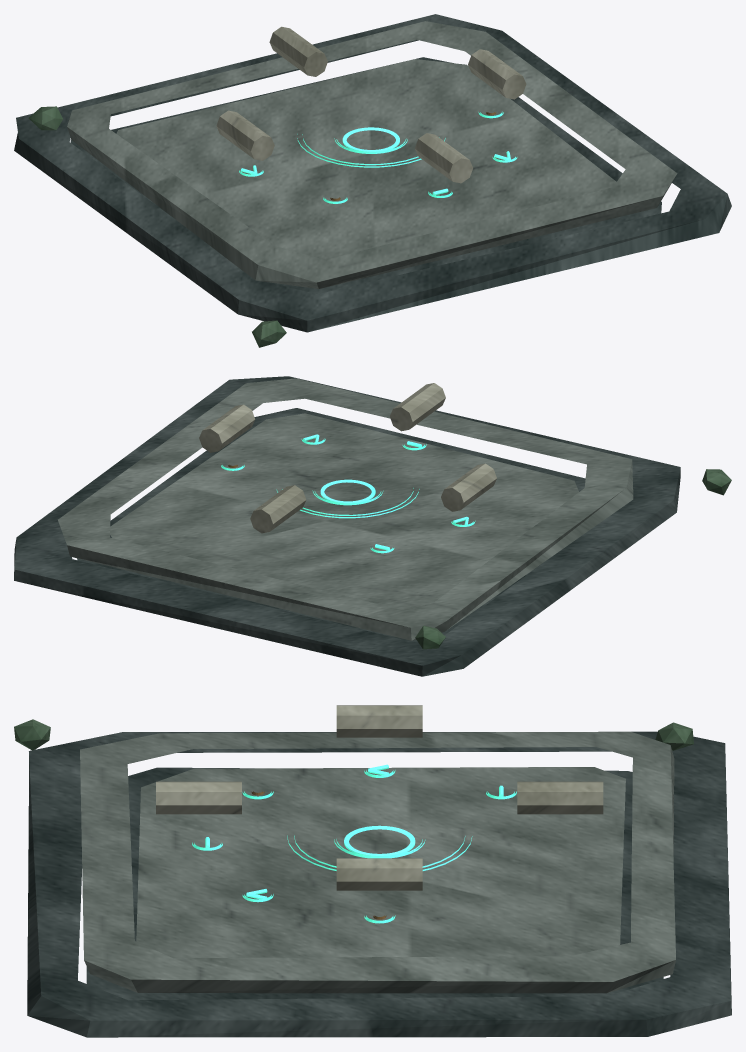
File: 0553_rune_dais_03.glb
The picture shows the model from 3 angles, top to bottom: view 1: azimuth 30°, elevation 25°; view 2: azimuth 150°, elevation 25°; view 3: azimuth 270°, elevation 25°; orthographic projection. The views are drawn at different scales.
Parts seen in each view (by area): view 1: stone, stone_dark, stone_light, glow, moss; view 2: stone, stone_dark, stone_light, glow, moss; view 3: stone, stone_dark, stone_light, glow, moss.
Boxes of the visible parts, <box> form: stone: <box>67,21,677,288</box>; stone_dark: <box>14,14,731,332</box>; stone_light: <box>216,26,526,183</box>; glow: <box>239,111,517,203</box>; moss: <box>28,106,286,347</box>; stone: <box>58,378,633,640</box>; stone_dark: <box>14,376,680,676</box>; stone_light: <box>199,383,496,533</box>; glow: <box>221,434,475,553</box>; moss: <box>415,469,731,649</box>; stone: <box>80,731,675,993</box>; stone_dark: <box>27,731,731,1037</box>; stone_light: <box>156,705,603,890</box>; glow: <box>192,764,516,923</box>; moss: <box>14,719,693,750</box>.
Bounding box in the file's own units: 4.15 × 0.7336 × 4.17.
Materials: 6 (6 with a texture image).
